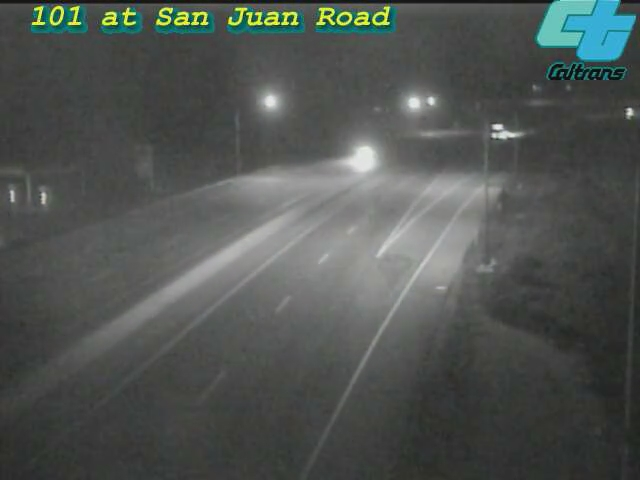vehicle: (335, 128, 385, 178), (484, 106, 534, 156)
